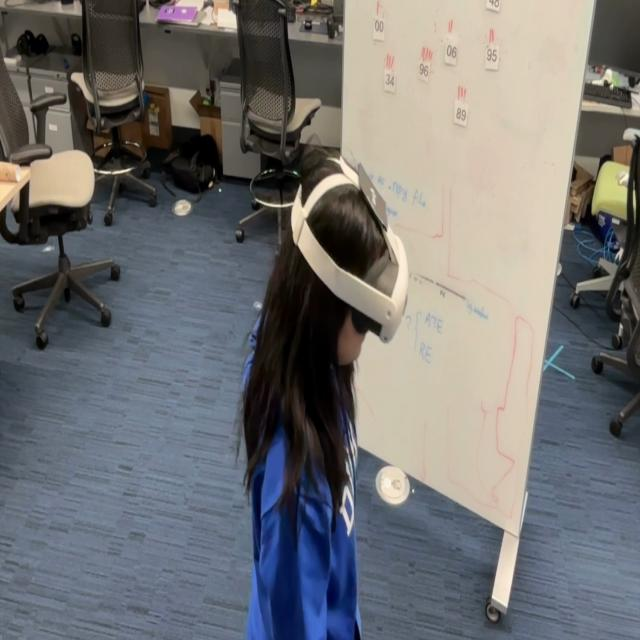Headset: (289, 159, 410, 344)
UnityLogo: (356, 159, 390, 232)
